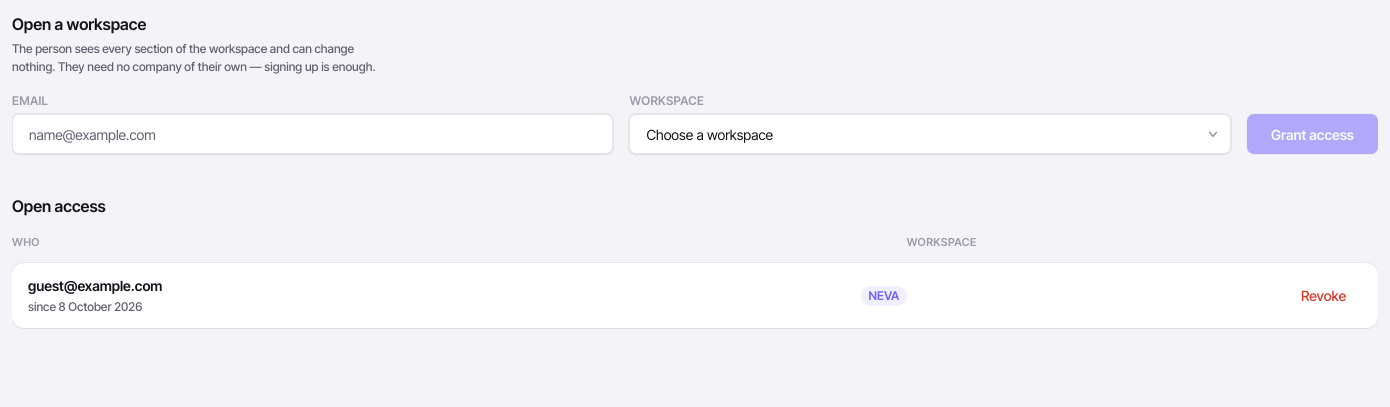
ProfileGuestsView › shows why a grant was refused
The image size is (1390, 407).
In the field labelled "Email": (313, 134) 12,114 -> 614,154, type "nobody@example.com"
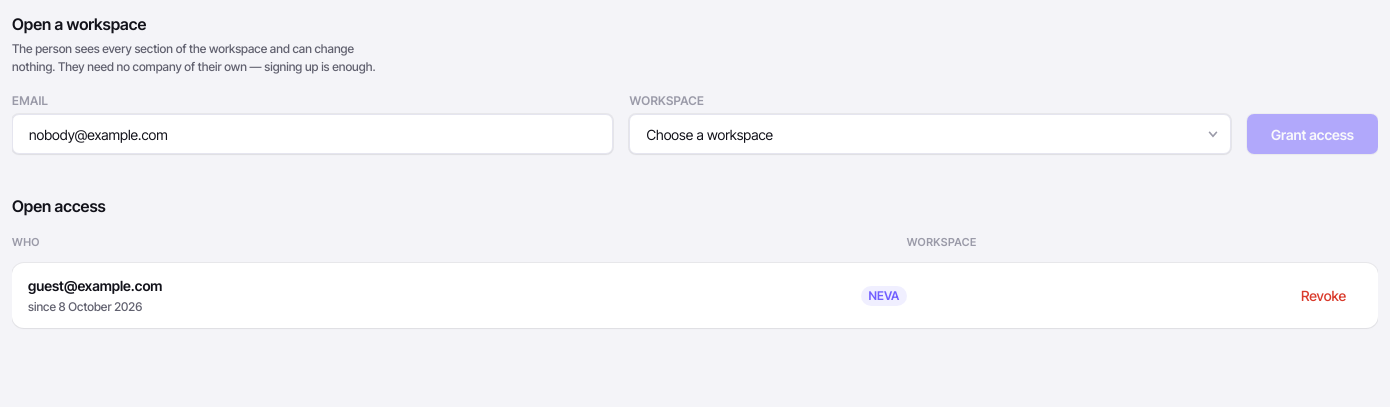
Select "NEVA" in the dropdown labelled "Workspace": (930, 134) 630,114 -> 1231,154
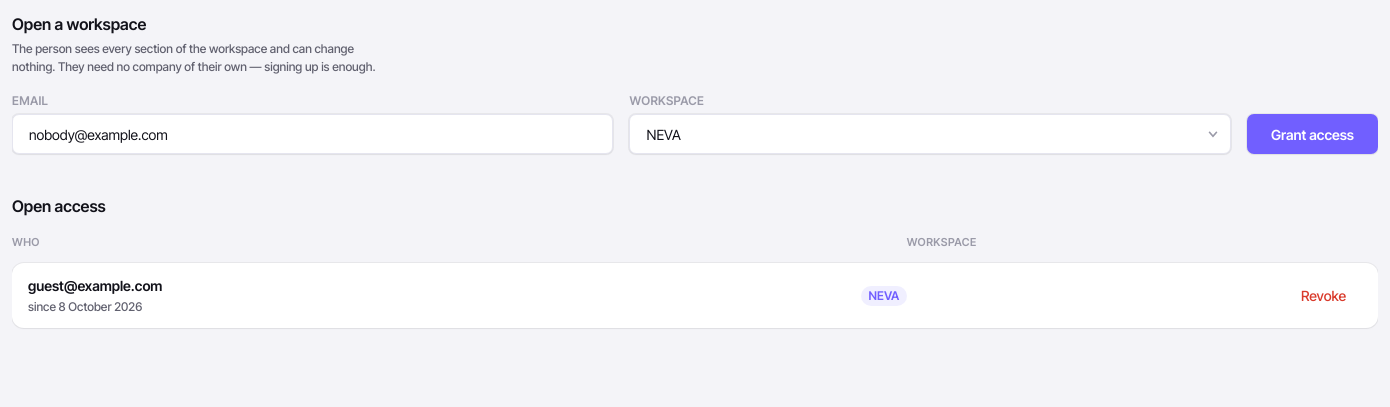
Submit the form, box 12,92 -> 1378,154
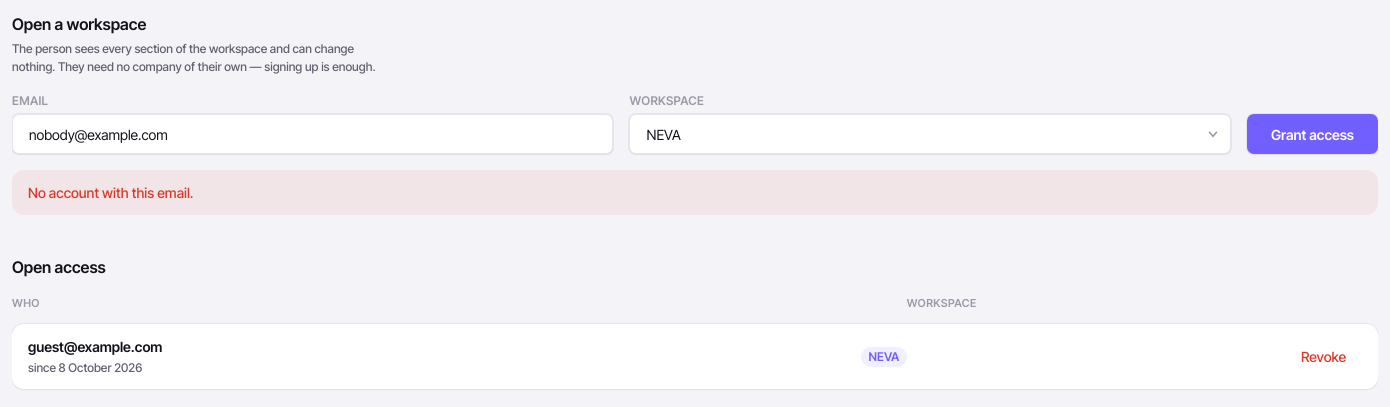
Check: the text "No account with this email." is shown, box 12,170 -> 1378,215
